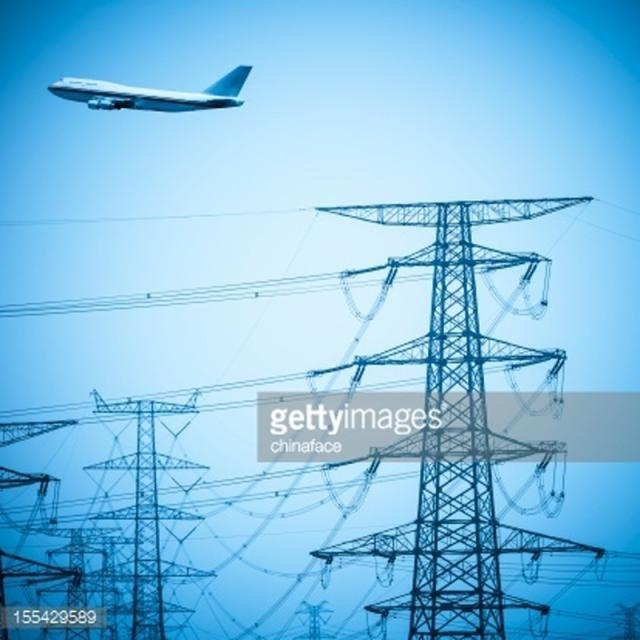non-critical vegetation: (306, 171, 602, 561)
